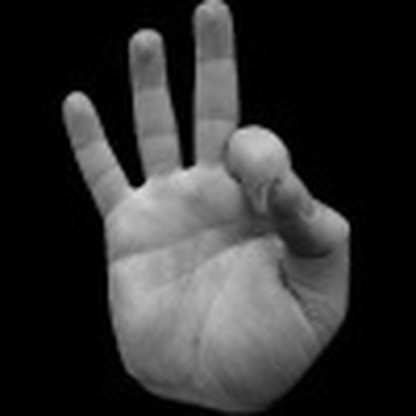f: (57, 1, 357, 394)
